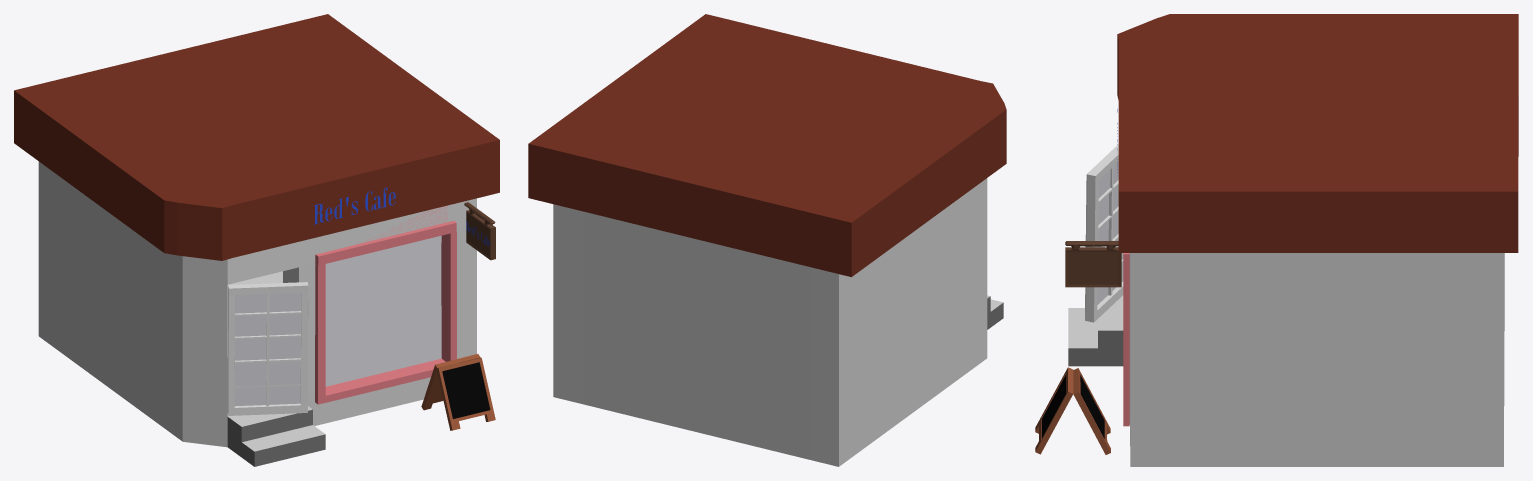
File: BikeCafe.fbx
3 renders of one model, left to right at view 1: azimuth 30°, elevation 25°; view 2: azimuth 150°, elevation 25°; view 3: azimuth 270°, elevation 25°, orthographic. The views are drawn at different scales.
Parts seen in each view (by area): view 1: Shop, door, SignFront, door.001, Cube, SignBack, ShopText; view 2: Shop; view 3: Shop, door, Cube, SignFront, SignBack.
Part boxes in pixels (<box>): Shop: <box>14,14,499,466</box>; door: <box>227,282,308,415</box>; SignFront: <box>436,357,495,430</box>; door.001: <box>234,292,300,405</box>; Cube: <box>464,202,495,260</box>; SignBack: <box>421,354,480,410</box>; ShopText: <box>314,187,395,224</box>; Shop: <box>528,14,1006,466</box>; Shop: <box>1068,14,1518,466</box>; door: <box>1085,144,1123,322</box>; Cube: <box>1065,241,1121,287</box>; SignFront: <box>1035,367,1073,454</box>; SignBack: <box>1073,368,1110,454</box>.
Bounding box in the file's own units: 475 × 356 × 546.
